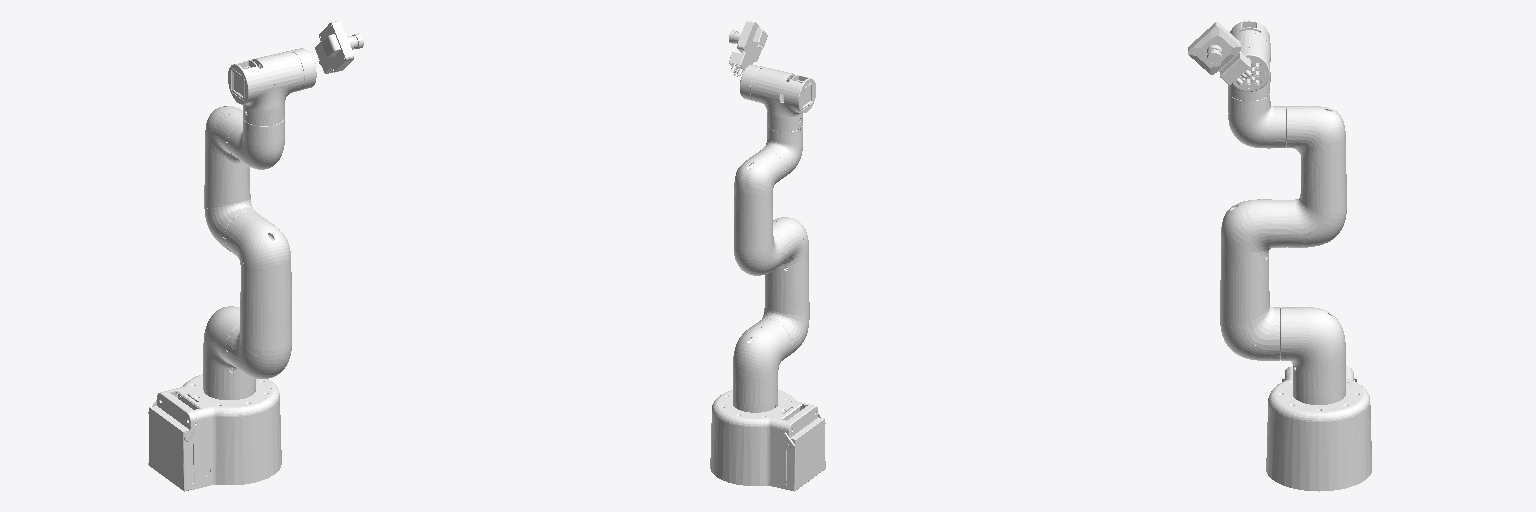
URDF robot description (jetcobot):
<?xml version="1.0" encoding="utf-8"?>
<!-- This URDF was automatically created by SolidWorks to URDF Exporter! Originally created by [author] ([email redacted]) 
     Commit Version: 1.6.0-1-g15f4949  Build Version: 1.6.7594.29634
     For more information, please see http://wiki.ros.org/sw_urdf_exporter -->
<robot name="jetcobot">
  <link name="dummy"/>
  <joint name="dummy_joint" type="fixed">
    <parent link="dummy"/>
    <child link="base_link"/>
  </joint>
  <link
    name="base_link">
    <inertial>
      <origin
        xyz="-0.0131083790012654 6.69302038809875E-06 0.0354087419202998"
        rpy="0 0 0" />
      <mass
        value="0.492874947350045" />
      <inertia
        ixx="0.000404279561956854"
        ixy="9.00304029145705E-08"
        ixz="-1.87890310458906E-05"
        iyy="0.000608346288236137"
        iyz="4.80299375571781E-08"
        izz="0.000624652394733672" />
    </inertial>
    <visual>
      <origin
        xyz="0 0 0"
        rpy="0 0 0" />
      <geometry>
        <mesh
          filename="package://jetcobot_description/meshes/base_link.STL" />
      </geometry>
      <material
        name="">
        <color
          rgba="1 1 1 1" />
      </material>
    </visual>
    <collision>
      <origin
        xyz="0 0 0"
        rpy="0 0 0" />
      <geometry>
        <mesh
          filename="package://jetcobot_description/meshes/base_link.STL" />
      </geometry>
    </collision>
  </link>
  <link
  name="link_1">
    <inertial>
      <origin
        xyz="-1.31131235135193E-05 -0.00680904441821013 0.0422096528553218"
        rpy="0 0 0" />
      <mass
        value="0.0362552727733653" />
      <inertia
        ixx="2.91075748915876E-05"
        ixy="6.17235351914783E-09"
        ixz="-9.05544995948064E-09"
        iyy="3.1419883802157E-05"
        iyz="7.56958694374969E-06"
        izz="1.50541827786635E-05" />
    </inertial>
    <visual>
      <origin
        xyz="0 0 0"
        rpy="0 0 0" />
      <geometry>
        <mesh
          filename="package://jetcobot_description/meshes/Link_1.STL" />
      </geometry>
      <material
        name="">
        <color
          rgba="1 1 1 1" />
      </material>
    </visual>
    <collision>
      <origin
        xyz="0 0 0"
        rpy="0 0 0" />
      <geometry>
        <mesh
      filename="package://jetcobot_description/meshes/Link_1.STL" />
      </geometry>
    </collision>
  </link>
  <joint
    name="joint_1"
    type="revolute">
    <origin
      xyz="0 0 0.074520000000001"
      rpy="0 0 0" />
    <parent
      link="base_link" />
    <child
  link="link_1" />
    <axis
      xyz="0 0 1" />
    <limit
      lower="-2.87"
      upper="2.87"
      effort="0"
      velocity="0" />
  </joint>
  <link
  name="link_2">
    <inertial>
      <origin
        xyz="-7.75613648330207E-06 -0.0235034548911008 0.0516000320310254"
        rpy="0 0 0" />
      <mass
        value="0.0668252611526333" />
      <inertia
        ixx="0.00015843232374682"
        ixy="-1.60643645992328E-09"
        ixz="8.77346086416886E-09"
        iyy="0.00016705510176789"
        iyz="-5.95622238422236E-07"
        izz="2.06389799675899E-05" />
    </inertial>
    <visual>
      <origin
        xyz="0 0 0"
        rpy="0 0 0" />
      <geometry>
        <mesh
          filename="package://jetcobot_description/meshes/Link_2.STL" />
      </geometry>
      <material
        name="">
        <color
          rgba="1 1 1 1" />
      </material>
    </visual>
    <collision>
      <origin
        xyz="0 0 0"
        rpy="0 0 0" />
      <geometry>
        <mesh
      filename="package://jetcobot_description/meshes/Link_2.STL" />
      </geometry>
    </collision>
  </link>
  <joint
    name="joint_2"
    type="revolute">
    <origin
      xyz="-2.56344886174708E-05 -0.0349999906124702 0.06"
      rpy="0 0 0" />
    <parent
  link="link_1" />
    <child
  link="link_2" />
    <axis
      xyz="-0.000732413960501075 -0.999999731784859 0" />
    <limit
      lower="-2.87"
      upper="2.87"
      effort="0"
      velocity="0" />
  </joint>
  <link
  name="link_3">
    <inertial>
      <origin
        xyz="1.6839879676764E-05 0.023294180860769 0.0437213142176436"
        rpy="0 0 0" />
      <mass
        value="0.0533199813011819" />
      <inertia
        ixx="9.73800220777058E-05"
        ixy="4.03928474755798E-09"
        ixz="9.626338081533E-09"
        iyy="0.000101574874298831"
        iyz="-4.03698497989361E-06"
        izz="1.36929060248111E-05" />
    </inertial>
    <visual>
      <origin
        xyz="0 0 0"
        rpy="0 0 0" />
      <geometry>
        <mesh
          filename="package://jetcobot_description/meshes/Link_3.STL" />
      </geometry>
      <material
        name="">
        <color
          rgba="1 1 1 1" />
      </material>
    </visual>
    <collision>
      <origin
        xyz="0 0 0"
        rpy="0 0 0" />
      <geometry>
        <mesh
      filename="package://jetcobot_description/meshes/Link_3.STL" />
      </geometry>
    </collision>
  </link>
  <joint
    name="joint_3"
    type="revolute">
    <origin
      xyz="0 0.00678999562722426 0.109999999944807"
      rpy="0 0 0" />
    <parent
  link="link_2" />
    <child
  link="link_3" />
    <axis
      xyz="0.000732413960503172 -0.999999731784859 0" />
    <limit
      lower="-2.87"
      upper="2.87"
      effort="0"
      velocity="0" />
  </joint>
  <link
  name="link_4">
    <inertial>
      <origin
        xyz="-4.84201074579515E-06 -0.0230260014326339 0.0076796931512822"
        rpy="0 0 0" />
      <mass
        value="0.0240531902650696" />
      <inertia
        ixx="9.31854762217622E-06"
        ixy="6.04168630160668E-10"
        ixz="3.4137552727643E-09"
        iyy="7.73418506337023E-06"
        iyz="3.30830574244328E-06"
        izz="7.81256309739935E-06" />
    </inertial>
    <visual>
      <origin
        xyz="0 0 0"
        rpy="0 0 0" />
      <geometry>
        <mesh
          filename="package://jetcobot_description/meshes/Link_4.STL" />
      </geometry>
      <material
        name="">
        <color
          rgba="1 1 1 1" />
      </material>
    </visual>
    <collision>
      <origin
        xyz="0 0 0"
        rpy="0 0 0" />
      <geometry>
        <mesh
      filename="package://jetcobot_description/meshes/Link_4.STL" />
      </geometry>
    </collision>
  </link>
  <joint
    name="joint_4"
    type="revolute">
    <origin
      xyz="0 -0.00134543437627838 0.0959999996761873"
      rpy="0 0 0" />
    <parent
  link="link_3" />
    <child
  link="link_4" />
    <axis
      xyz="0.000732413960503879 -0.999999731784859 0" />
    <limit
      lower="-2.87"
      upper="2.87"
      effort="0"
      velocity="0" />
  </joint>
  <link
  name="link_5">
    <inertial>
      <origin
        xyz="0.000920147444179747 -8.87115340001549E-05 0.0288537732000537"
        rpy="0 0 0" />
      <mass
        value="0.0314577601971656" />
      <inertia
        ixx="1.33683459564198E-05"
        ixy="2.60891660423066E-08"
        ixz="-2.99675037743924E-06"
        iyy="1.32866723243173E-05"
        iyz="1.65645962236069E-08"
        izz="8.52777440880247E-06" />
    </inertial>
    <visual>
      <origin
        xyz="0 0 0"
        rpy="0 0 0" />
      <geometry>
        <mesh
          filename="package://jetcobot_description/meshes/Link_5.STL" />
      </geometry>
      <material
        name="">
        <color
          rgba="1 1 1 1" />
      </material>
    </visual>
    <collision>
      <origin
        xyz="0 0 0"
        rpy="0 0 0" />
      <geometry>
        <mesh
      filename="package://jetcobot_description/meshes/Link_5.STL" />
      </geometry>
    </collision>
  </link>
  <joint
    name="joint_5"
    type="revolute">
    <origin
      xyz="-2.51335035583085E-05 -0.0335399905878049 0.0348292449246146"
      rpy="0 0 0" />
    <parent
  link="link_4" />
    <child
  link="link_5" />
    <axis
      xyz="-1.63178762811156E-05 0 0.999999999866863" />
    <limit
      lower="-2.87"
      upper="2.87"
      effort="0"
      velocity="0" />
  </joint>
  <link
  name="link_6">
    <inertial>
      <origin
        xyz="0.00719200131540984 -7.65911084783799E-06 3.05896694446917E-06"
        rpy="0 0 0" />
      <mass
        value="0.00770526463879312" />
      <inertia
        ixx="1.35526258323655E-06"
        ixy="-5.85324410888035E-10"
        ixz="5.99325370891833E-11"
        iyy="8.40446638273888E-07"
        iyz="-2.43816134145291E-10"
        izz="8.40443397022734E-07" />
    </inertial>
    <visual>
      <origin
        xyz="0 0 0"
        rpy="0 0 0" />
      <geometry>
        <mesh
          filename="package://jetcobot_description/meshes/Link_6.STL" />
      </geometry>
      <material
        name="">
        <color
          rgba="1 1 1 1" />
      </material>
    </visual>
    <collision>
      <origin
        xyz="0 0 0"
        rpy="0 0 0" />
      <geometry>
        <mesh
      filename="package://jetcobot_description/meshes/Link_6.STL" />
      </geometry>
    </collision>
  </link>
  <joint
    name="joint_6"
    type="revolute">
    <origin
      xyz="0.0319651869150594 -2.83148869312522E-05 0.03992044757551"
      rpy="0.785398 0 0" />
    <parent
  link="link_5" />
    <child
  link="link_6" />
    <axis
      xyz="0.999999508360072 0.00099147029270504 -1.63178800449753E-05" />
    <limit
      lower="-3.05"
      upper="3.05"
      effort="0"
      velocity="0" />
  </joint>
  <link
    name="camera_link">
    <inertial>
      <origin
        xyz="-0.00275231085999596 -0.000213763964140273 0.00241270444256747"
        rpy="0 0 0" />
      <mass
        value="0.0173158610148997" />
      <inertia
        ixx="3.93857833594377E-06"
        ixy="5.78200746595397E-09"
        ixz="3.48752198317634E-07"
        iyy="2.77644660480074E-06"
        iyz="1.7431869934464E-09"
        izz="2.12940000335535E-06" />
    </inertial>
    <visual>
      <origin
        xyz="0 0 0"
        rpy="0 0 0" />
      <geometry>
        <mesh
          filename="package://jetcobot_description/meshes/camera_Link.STL" />
      </geometry>
      <material
        name="">
        <color
         rgba="1 1 1 1" />
      </material>
    </visual>
    <collision>
      <origin
        xyz="0 0 0"
        rpy="0 0 0" />
      <geometry>
        <mesh
          filename="package://jetcobot_description/meshes/camera_Link.STL" />
      </geometry>
    </collision>
  </link>
  <joint
    name="camera_Joint"
    type="fixed">
    <origin
      xyz="0.033 0 0.035"
      rpy="0 0 0" />
    <parent
  link="link_6" />
    <child
      link="camera_link" />
    <axis
      xyz="0 0 0" />
  </joint>
  <link name="gripper_base">
    <visual>
      <geometry>
       <!--- 0.0 0 -0.04 -->
       <mesh filename="package://jetcobot_description/meshes/gripper_base.dae"/>
      </geometry>
    <origin xyz = "0.0 0 -0.012 " rpy = " 0 0 0"/>
    </visual>
    <collision>
      <geometry>
       <!--- 0.0 0 -0.04 -->
       <mesh filename="package://jetcobot_description/meshes/gripper_base.dae"/>
      </geometry>
    <origin xyz = "0.0 0 -0.012 " rpy = " 0 0 0"/>
    </collision>
  </link>

  <link name="gripper_left1">
    <visual>
      <geometry>
       <!--- 0.0 0 -0.04 -->
       <mesh filename="package://jetcobot_description/meshes/gripper_left1.dae"/>
      </geometry>
    <origin xyz = "0.039 -0.0133 -0.012 " rpy = " 0 0 0"/>
    <!-- <origin xyz = "0.0 0 -0.012 " rpy = " 0 0 0"/> -->
    </visual>
    <collision>
      <geometry>
       <mesh filename="package://jetcobot_description/meshes/gripper_left1.dae"/>
      </geometry>
        <origin xyz = "0.039 -0.0133 -0.012 " rpy = " 0 0 0"/>
    </collision>
  </link>

  <link name="gripper_left2">
    <visual>
      <geometry>
       <mesh filename="package://jetcobot_description/meshes/gripper_left2.dae"/>
      </geometry>
    <origin xyz = "0.005 -0.0195 -0.012 " rpy = " 0 0 0"/>
    </visual>
    <collision>
      <geometry>
       <mesh filename="package://jetcobot_description/meshes/gripper_left2.dae"/>
      </geometry>
        <origin xyz = "0.005 -0.0195 -0.012 " rpy = " 0 0 0"/>
    </collision>
  </link>

  <link name="gripper_left3">
    <visual>
      <geometry>
       <mesh filename="package://jetcobot_description/meshes/gripper_left3.dae"/>
      </geometry>
    <origin xyz = "0.012 0.0025 -0.012 " rpy = " 0 0 0"/>
    <!-- <origin xyz = "0.0 0 0 " rpy = " 0 0 0"/> -->

    </visual>
    <collision>
      <geometry>
       <mesh filename="package://jetcobot_description/meshes/gripper_left3.dae"/>
      </geometry>
    <origin xyz = "0.012 0.0025 -0.012 " rpy = " 0 0 0"/>
    </collision>
  </link>

  <link name="gripper_right1">
    <visual>
      <geometry>
       <mesh filename="package://jetcobot_description/meshes/gripper_right1.dae"/>
      </geometry>
    <origin xyz = "-0.039 -0.0133 -0.012 " rpy = " 0 0 0"/>
    </visual>
    <collision>
      <geometry>
       <mesh filename="package://jetcobot_description/meshes/gripper_right1.dae"/>
      </geometry>
        <origin xyz = "-0.039 -0.0133 -0.012 " rpy = " 0 0 0"/>
    </collision>
  </link>

  <link name="gripper_right2">
    <visual>
      <geometry>
       <mesh filename="package://jetcobot_description/meshes/gripper_right2.dae"/>
      </geometry>
    <origin xyz = "-0.005 -0.0195 -0.012 " rpy = " 0 0 0"/>
    </visual>
    <collision>
      <geometry>
       <mesh filename="package://jetcobot_description/meshes/gripper_right2.dae"/>
      </geometry>
        <origin xyz = "-0.005 -0.0195 -0.012 " rpy = " 0 0 0"/>
    </collision>
  </link>

  <link name="gripper_right3">
    <visual>
      <geometry>
       <mesh filename="package://jetcobot_description/meshes/gripper_right3.dae"/>
      </geometry>
    <origin xyz = "-0.012 0.0025 -0.012 " rpy = " 0 0 0"/>
    </visual>
    <collision>
      <geometry>
       <mesh filename="package://jetcobot_description/meshes/gripper_right3.dae"/>
      </geometry>
    <origin xyz = "-0.012 0.0025 -0.012" rpy = " 0 0 0"/>
    </collision>
  </link>

  <joint name="link_6_to_gripper_base" type="fixed">
    <!-- <axis xyz="0 0 1"/>
    <limit effort = "1000.0" lower = "-3.14" upper = "3.14159" velocity = "0"/> -->
  <parent link="link_6"/>
    <child link="gripper_base"/>
    <!-- <origin xyz= "0 0.0 0" rpy = "-1.5708 0 0"/>   -->
    <origin xyz= "0.045 0 0" rpy = "3.141592653589793 0 1.570796326794897"/>  
  </joint>

  <joint name="gripper_controller" type="revolute">
    <axis xyz="0 0 1"/>
    <limit effort = "1000.0" lower = "-0.7" upper = "0.15" velocity = "0"/>
    <parent link="gripper_base"/>
    <child link="gripper_left3"/>
    <origin xyz= "-0.012 -0.0025 0" rpy = "0 0 0"/> 
  </joint>

  <joint name="gripper_base_to_gripper_left2" type="revolute">
    <axis xyz="0 0 1"/>
    <limit effort = "1000.0" lower = "-0.8" upper = "0.5" velocity = "0"/>
    <parent link="gripper_base"/>
    <child link="gripper_left2"/>
    <origin xyz= "-0.005 0.0195 0" rpy = "0 0 0"/> 
    <mimic joint="gripper_controller" multiplier="1.0" offset="0" />
  </joint>

  <joint name="gripper_left3_to_gripper_left1" type="revolute">
    <axis xyz="0 0 1"/>
    <limit effort = "1000.0" lower = "-0.5" upper = "0.5" velocity = "0"/>
    <parent link="gripper_left3"/>
    <child link="gripper_left1"/>
    <origin xyz= "-0.027 0.016 0" rpy = "0 0 0"/> 
    <mimic joint="gripper_controller" multiplier="-1.0" offset="0" />
  </joint>


  <joint name="gripper_base_to_gripper_right3" type="revolute">
    <axis xyz="0 0 1"/>
    <limit effort = "1000.0" lower = "-0.15" upper = "0.7" velocity = "0"/>
    <parent link="gripper_base"/>
    <child link="gripper_right3"/>
    <origin xyz= "0.012 -0.0025 0" rpy = "0 0 0"/> 
    <mimic joint="gripper_controller" multiplier="-1.0" offset="0" />
  </joint>

  <joint name="gripper_base_to_gripper_right2" type="revolute">
    <axis xyz="0 0 1"/>
    <limit effort = "1000.0" lower = "-0.5" upper = "0.8" velocity = "0"/>
    <parent link="gripper_base"/>
    <child link="gripper_right2"/>
    <origin xyz= "0.005 0.0195 0" rpy = "0 0 0"/> 
    <mimic joint="gripper_controller" multiplier="-1.0" offset="0" />
  </joint>

  <joint name="gripper_right3_to_gripper_right1" type="revolute">
    <axis xyz="0 0 1"/>
    <limit effort = "1000.0" lower = "-0.5" upper = "0.5" velocity = "0"/>
    <parent link="gripper_right3"/>
    <child link="gripper_right1"/>
    <origin xyz= "0.027 0.016 0" rpy = "0 0 0"/> 
    <mimic joint="gripper_controller" multiplier="1.0" offset="0" />
  </joint>
</robot>

--- Facts derived from the render (not from the file) ---
Views: 3 orthographic renders of the robot side by side, from view 1: azimuth 30°, elevation 25°; view 2: azimuth 150°, elevation 25°; view 3: azimuth 270°, elevation 25°.
Robot: jetcobot — 16 links, 15 joints (12 revolute, 3 fixed); root link dummy; default pose: all joints at 0.
Links seen in each view (by area): view 1: base_link, link_2, link_3, link_5, link_1, link_4, camera_link; view 2: base_link, link_3, link_2, link_1, link_5, camera_link, link_4; view 3: base_link, link_2, link_3, link_1, link_4, camera_link, link_5, link_6.
Link boxes in pixels (x1,y1,x2,y2): base_link: (148,374,281,491); link_2: (225,211,291,378); link_3: (204,106,259,251); link_5: (228,51,303,125); link_1: (203,306,255,399); link_4: (228,118,284,169); camera_link: (315,21,363,73); base_link: (710,390,825,491); link_3: (734,149,785,275); link_2: (760,217,809,357); link_1: (733,319,790,412); link_5: (750,67,815,131); camera_link: (729,21,767,76); link_4: (760,125,802,178); base_link: (1266,366,1371,491); link_2: (1220,199,1287,360); link_3: (1286,106,1346,247); link_1: (1280,307,1345,404); link_4: (1228,93,1286,148); camera_link: (1188,22,1251,85); link_5: (1228,20,1270,100); link_6: (1232,48,1269,91).
Size in the robot's own frame: 0.1508 by 0.1665 by 0.4705 metres.
Meshes: 15 distinct files referenced, 8 mesh visuals loaded (8 binary STL); not drawn: 7 (reference not matched to a file when rendering).
